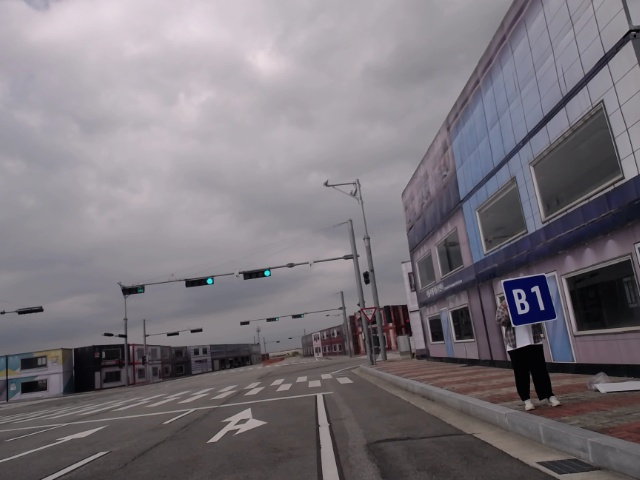delivery_b1: (502, 274, 558, 327)
straight_green_4: (185, 277, 215, 287), (243, 269, 271, 279), (291, 313, 304, 319), (266, 317, 279, 322)
